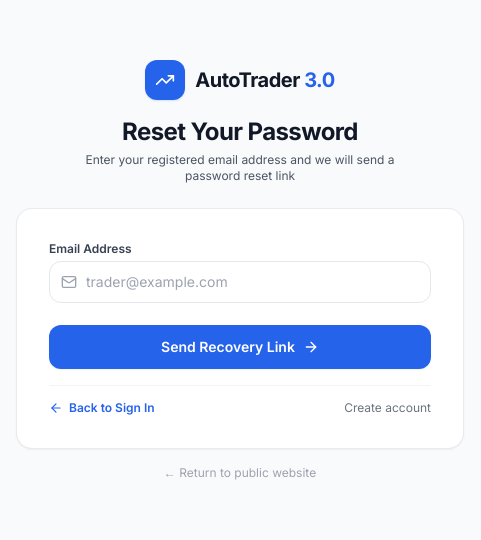
Test case: Complete Authentication & Onboarding Test Suite (Phase 3) › Task 2: Forgot & Reset Password Pages › handles forgot password submission with clear confirmation message
Step 1. Type "recover@example.com" into the field with placeholder "trader@example.com" → (240, 282), box [49,260,431,302]
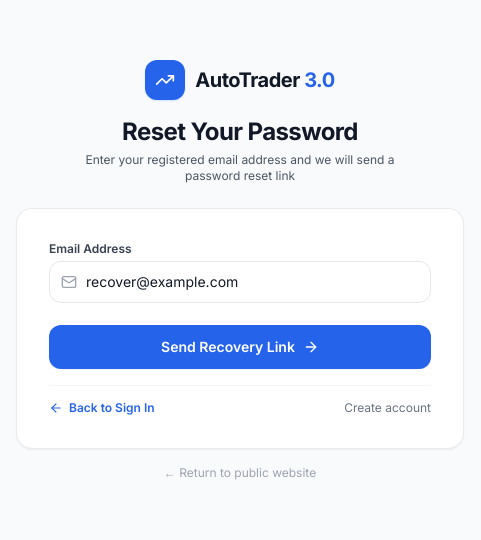
Step 2. Click the button "Send Recovery Link" → (240, 346), box [49,324,431,368]
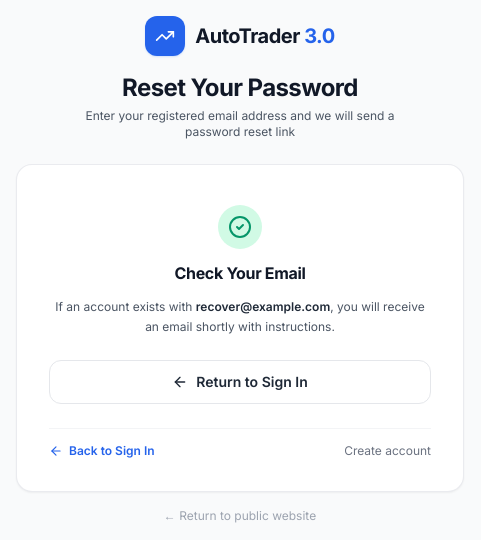
Now the heading "Check Your Email" is shown, box [174,263,306,283]
